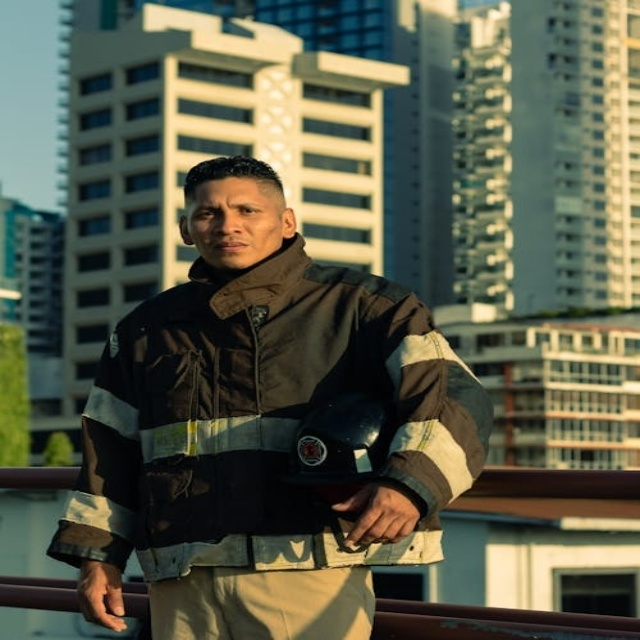Sin_gafas: (182, 196, 270, 227)
Sin_guantes: (324, 477, 428, 554), (59, 556, 140, 634)
Sin_mascara: (205, 238, 256, 260)
